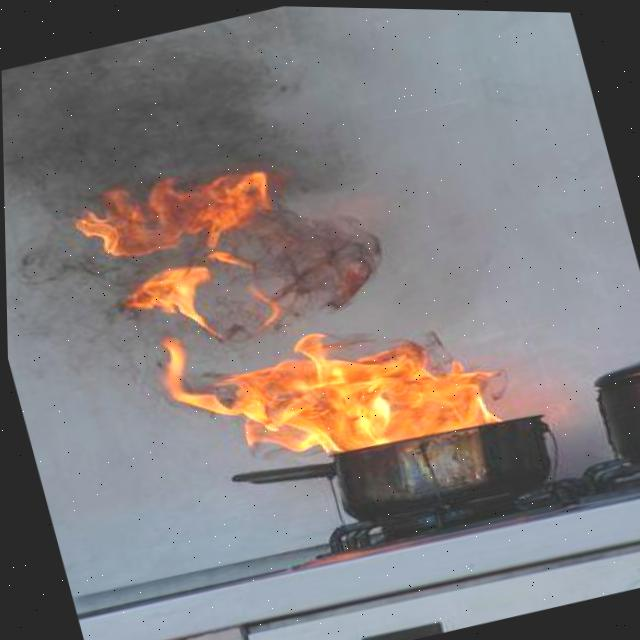fire: (161, 331, 496, 452), (74, 169, 270, 256), (123, 266, 222, 337)
smoke: (1, 5, 452, 381)
